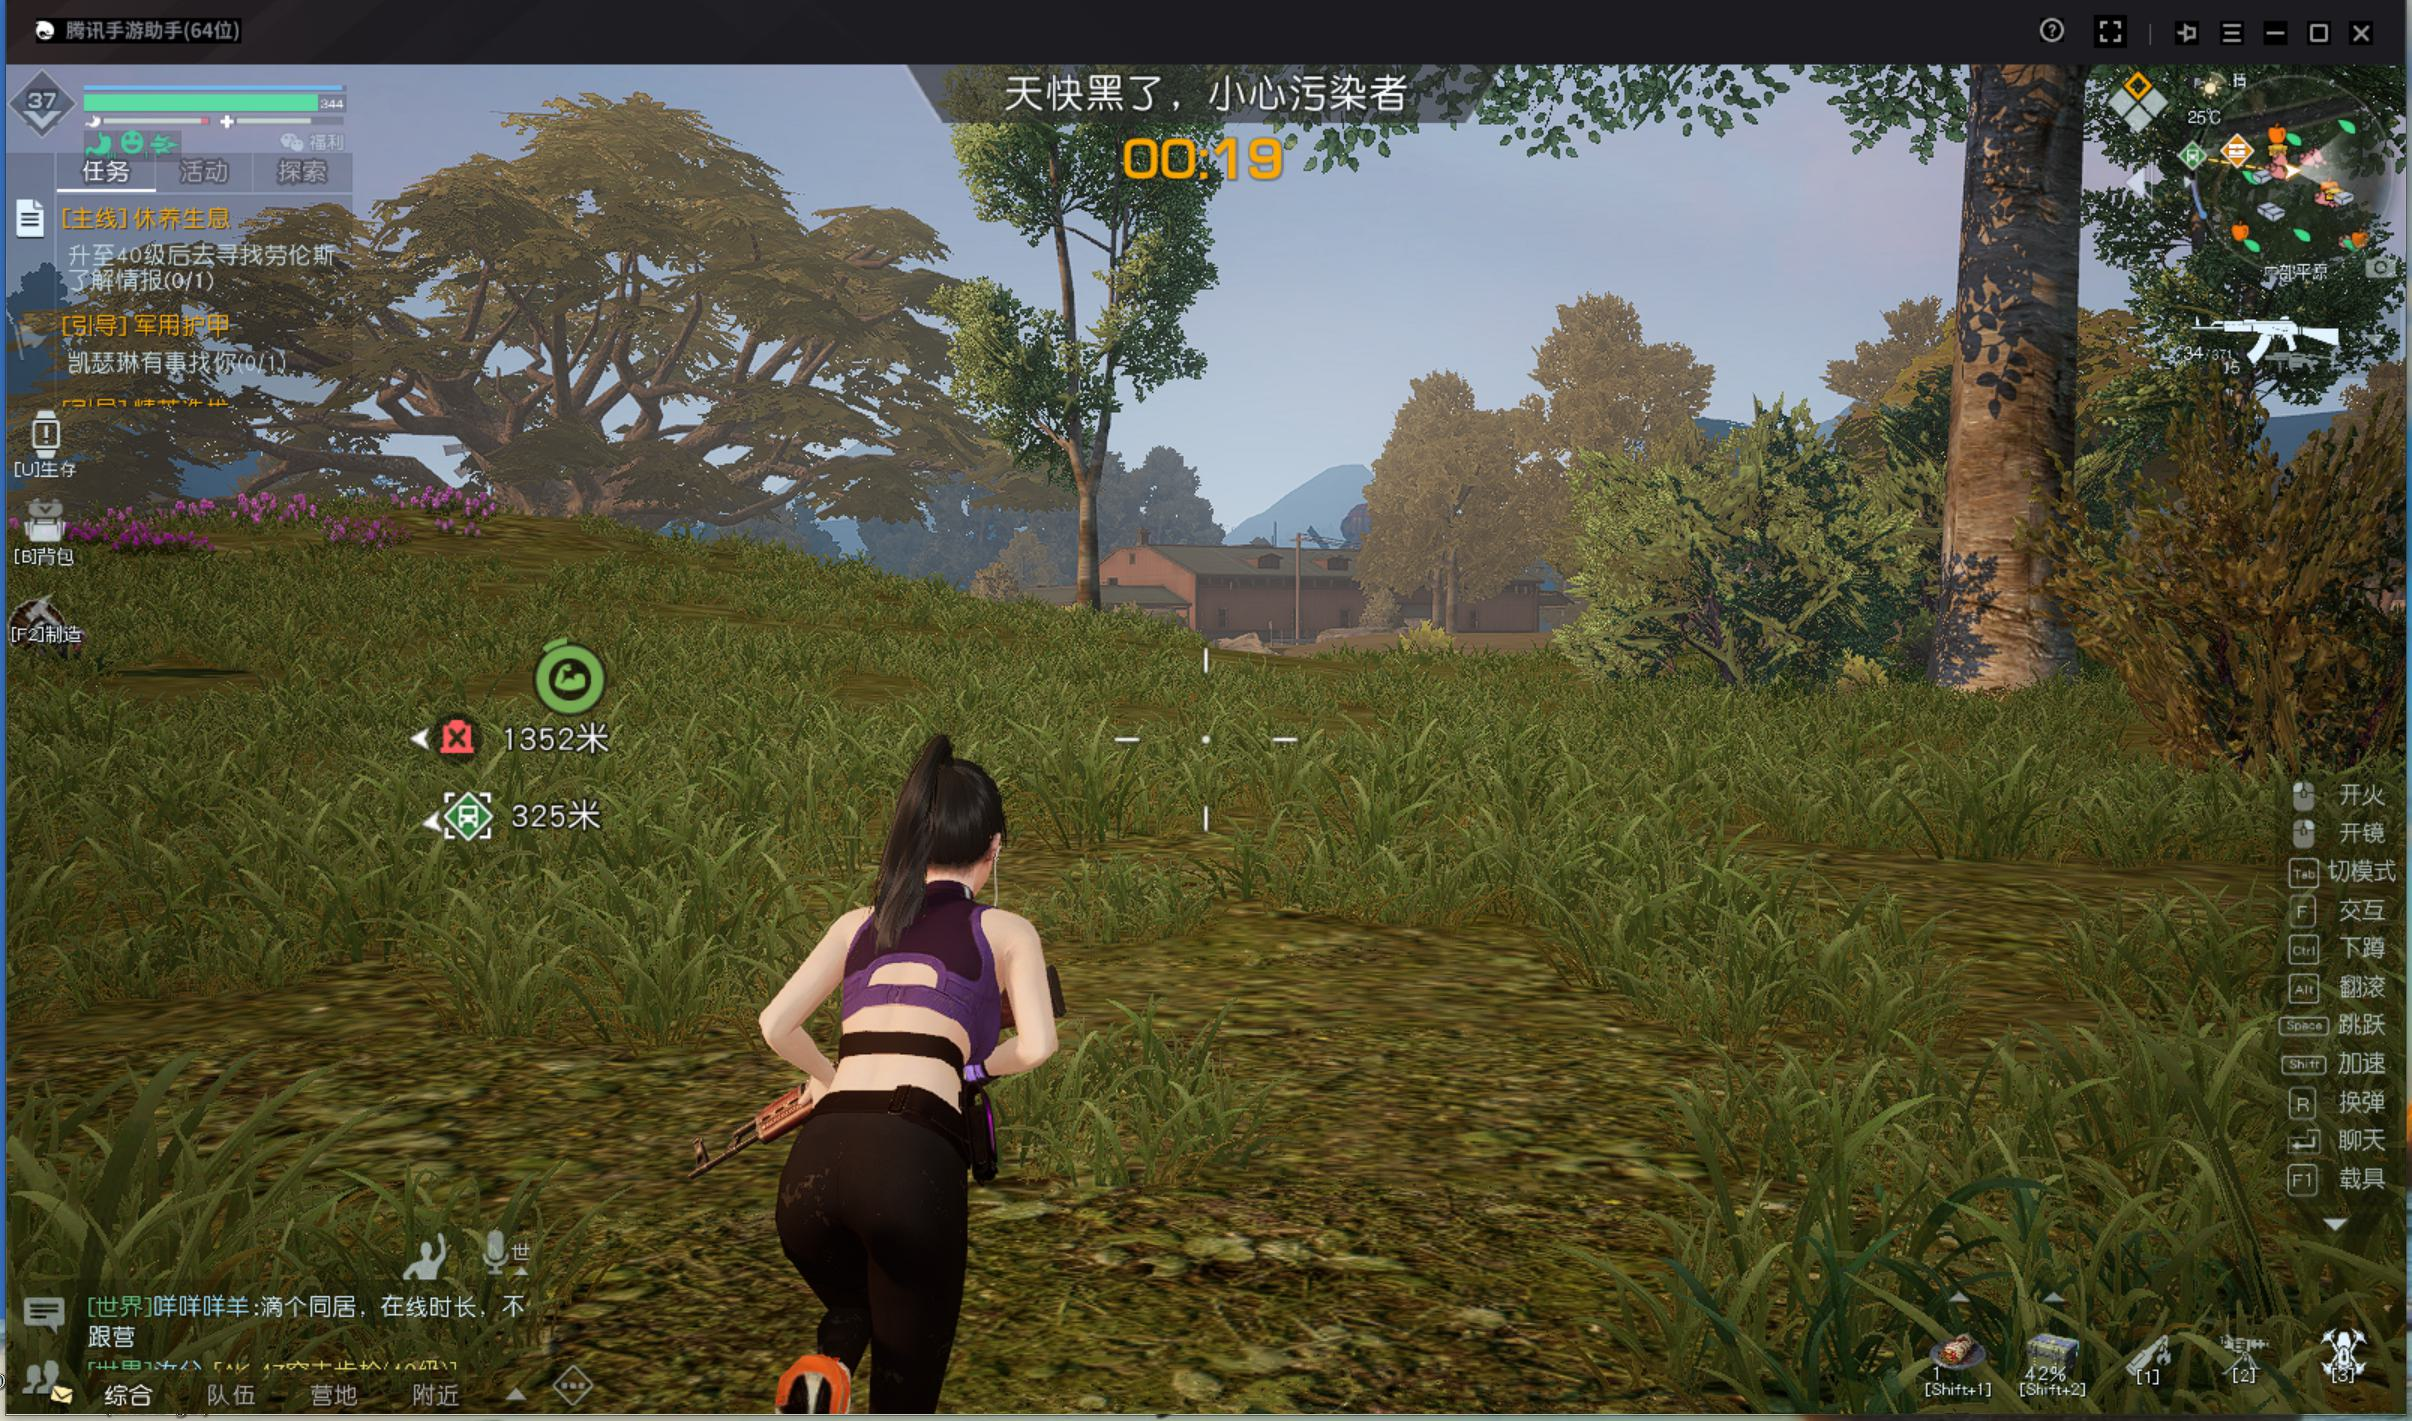tree: (1921, 100, 2094, 699), (1069, 486, 1105, 616)
